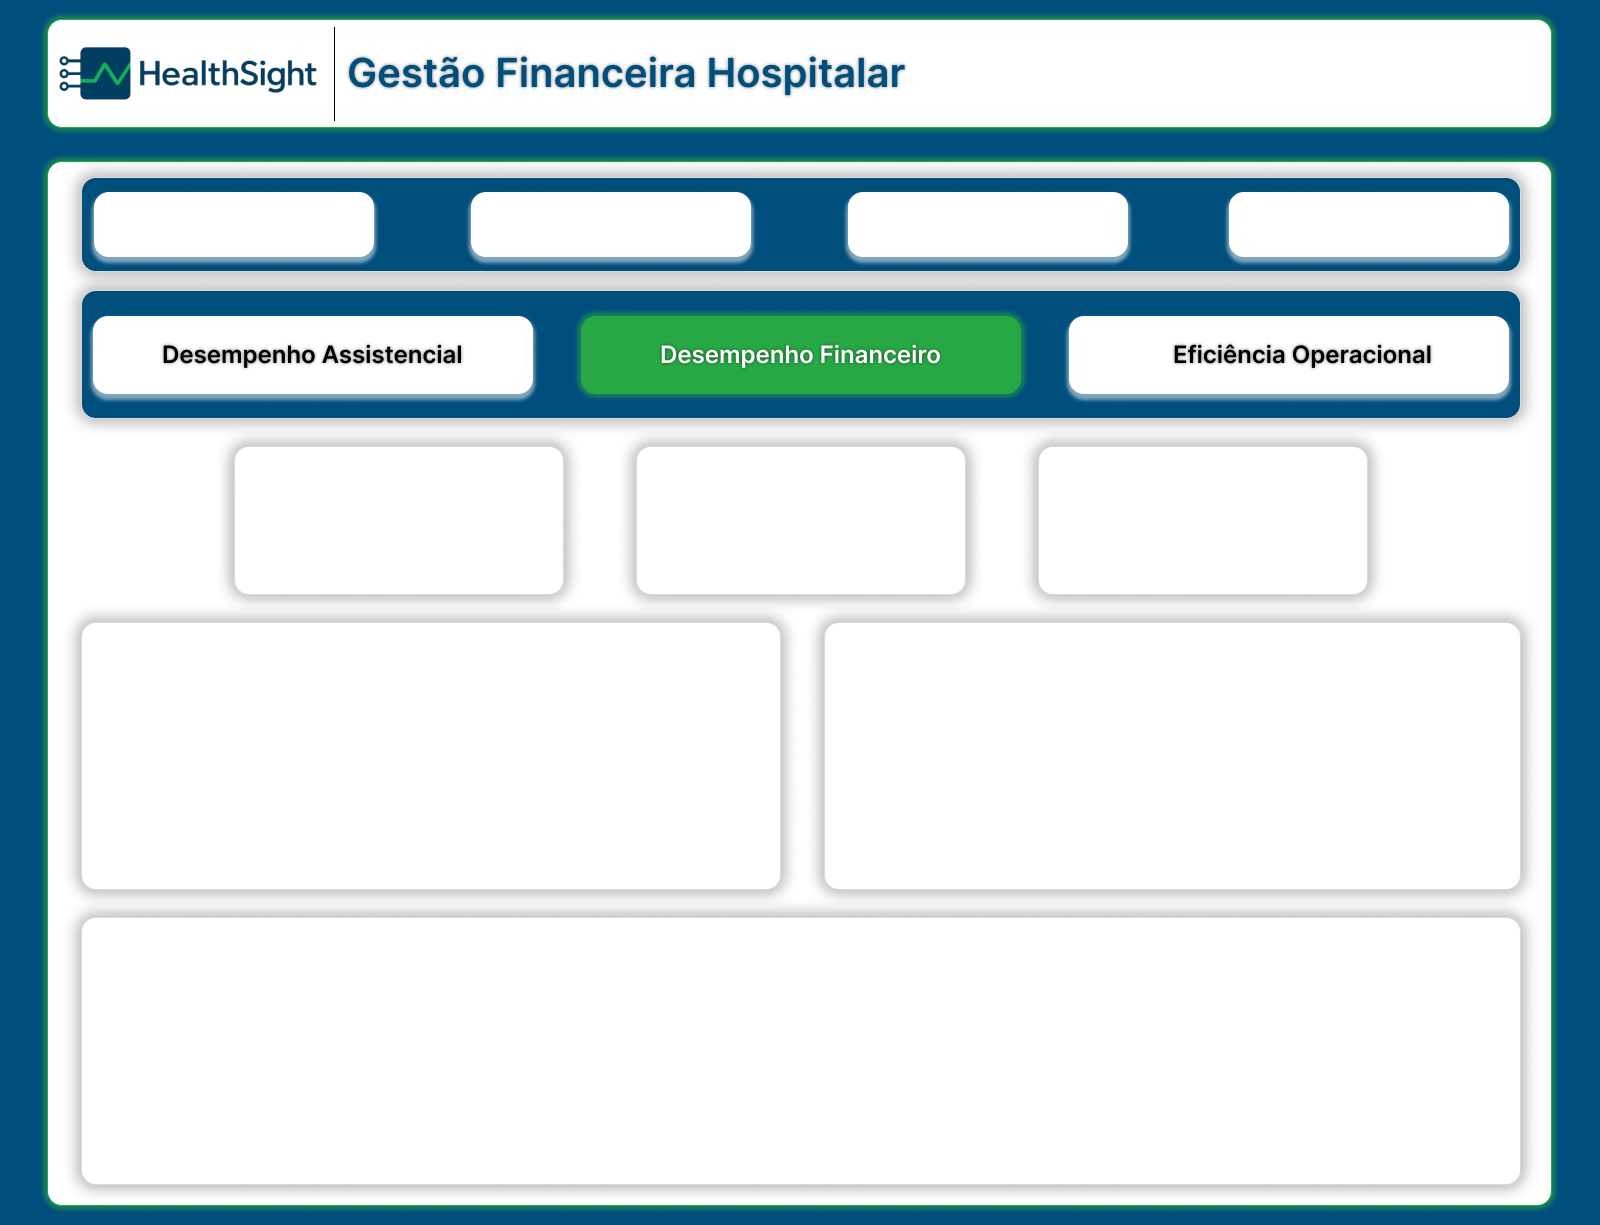

The dashboard page shown, as its layout file describes it:
{"tool":"powerbi","page":{"name":"Desempenho Financeiro","canvas":[1600,1225],"ordinal":1},"visuals":[{"type":"card","title":"Receita Liquida","fields":{"Values":["Sum(fato_financeiro.receita_liquida)"]},"box":[235,445,333.3,150],"z":0},{"type":"card","title":"Margem Operacional (%)","fields":{"Values":["fato_financeiro.Margem Operacional (%)"]},"box":[631.7,445,336.7,150],"z":1000},{"type":"card","title":"Custo Total","fields":{"Values":["fato_financeiro.Custo Total"]},"box":[1035,445,335,150],"z":2000},{"type":"clusteredBarChart","title":"Receita Líquida por Convênio","fields":{"Y":["Sum(fato_internacoes.receita_total)"],"Category":["dim_convenio.nome_convênio"]},"box":[78.3,621.7,696.7,266.7],"z":3000},{"type":"lineChart","fields":{"Y":["Sum(fato_internacoes.receita_total)","fato_financeiro.Custo Total"],"Category":["dim_tempo.data_ref.Variation.Hierarquia de datas.Mês"]},"box":[825,620,698.3,268.3],"z":4000},{"type":"tableEx","fields":{"Values":["dim_convenio.nome_convênio","fato_financeiro.Margem Operacional (%)","fato_financeiro.Custo Total","Sum(fato_internacoes.receita_total)","fato_financeiro.Receita Líquida Total"]},"box":[95,915,1415,268.3],"z":5000},{"type":"slicer","title":"Mês","fields":{"Values":["dim_tempo.data_ref.Variation.Hierarquia de datas.Mês"]},"box":[470,190,280,65],"z":6000},{"type":"slicer","title":"Ano","fields":{"Values":["dim_tempo.data_ref.Variation.Hierarquia de datas.Ano"]},"box":[95,190,280,65],"z":7000},{"type":"slicer","title":"Tipo de Internação","fields":{"Values":["dim_paciente.tipo_internacao"]},"box":[848.3,190,280,63.3],"z":8000},{"type":"slicer","title":"Tipo de Convênio","fields":{"Values":["dim_convenio.tipo_convênio"]},"box":[1230,190,280,65],"z":9000},{"type":"pageNavigator","box":[91.7,310,1418.3,81.7],"z":10000}]}

Visuals, with their boxes in screenshot pixels (x1, y1, x2, y2), scaled from the page's 1600x1225 canvas onto the 1600x1225 screenshot:
"Receita Liquida" card: x1=235 y1=445 x2=568 y2=595
"Margem Operacional (%)" card: x1=632 y1=445 x2=968 y2=595
"Custo Total" card: x1=1035 y1=445 x2=1370 y2=595
"Receita Líquida por Convênio" clusteredBarChart: x1=78 y1=622 x2=775 y2=888
lineChart - Sum(fato_internacoes.receita_total) x fato_financeiro.Custo Total: x1=825 y1=620 x2=1523 y2=888
tableEx - dim_convenio.nome_convênio x fato_financeiro.Margem Operacional (%): x1=95 y1=915 x2=1510 y2=1183
"Mês" slicer: x1=470 y1=190 x2=750 y2=255
"Ano" slicer: x1=95 y1=190 x2=375 y2=255
"Tipo de Internação" slicer: x1=848 y1=190 x2=1128 y2=253
"Tipo de Convênio" slicer: x1=1230 y1=190 x2=1510 y2=255
pageNavigator: x1=92 y1=310 x2=1510 y2=392
